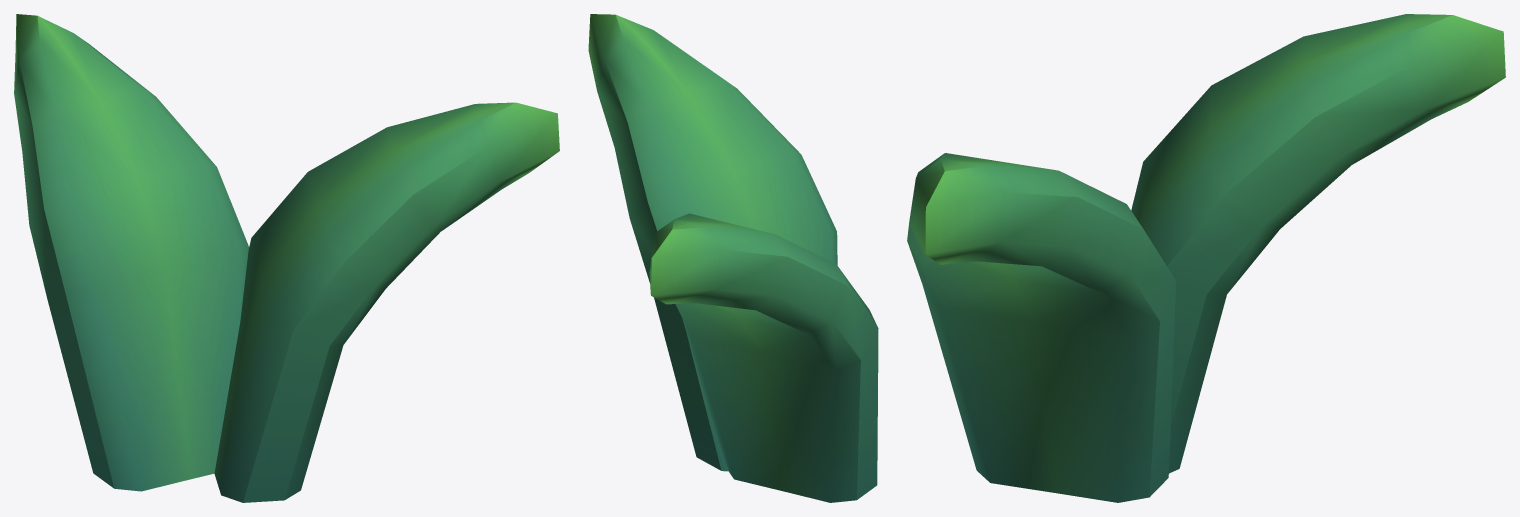
Rendered from prop_park_grass_b.glb.
3 renders of one model, left to right at view 1: azimuth 30°, elevation 25°; view 2: azimuth 150°, elevation 25°; view 3: azimuth 270°, elevation 25°, orthographic. The views are drawn at different scales.
Visible parts, largest first — view 1: grass_B; view 2: grass_B; view 3: grass_B.
Part boxes in pixels (left/top/right/bottom): grass_B: left=14, top=14, right=559, bottom=502; grass_B: left=588, top=14, right=878, bottom=502; grass_B: left=907, top=14, right=1505, bottom=502.
Size of the model in its own units: 0.4744 by 0.4054 by 0.5138.
Materials: 1 (1 with a texture image).
